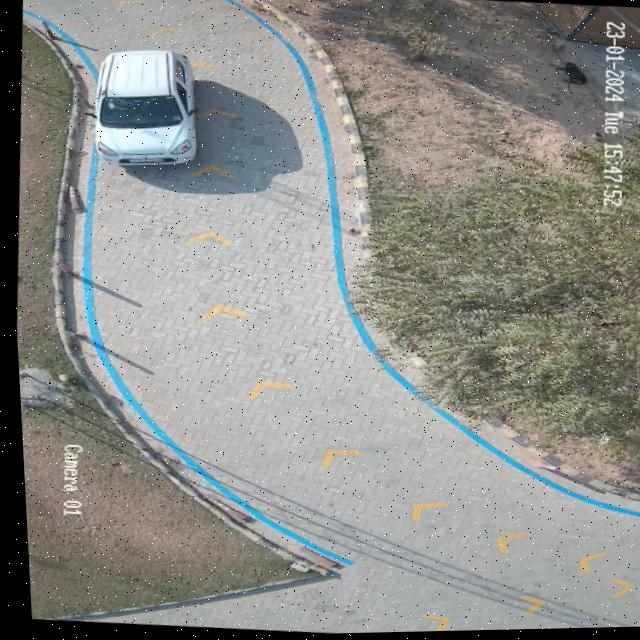car: (91, 49, 195, 166)
